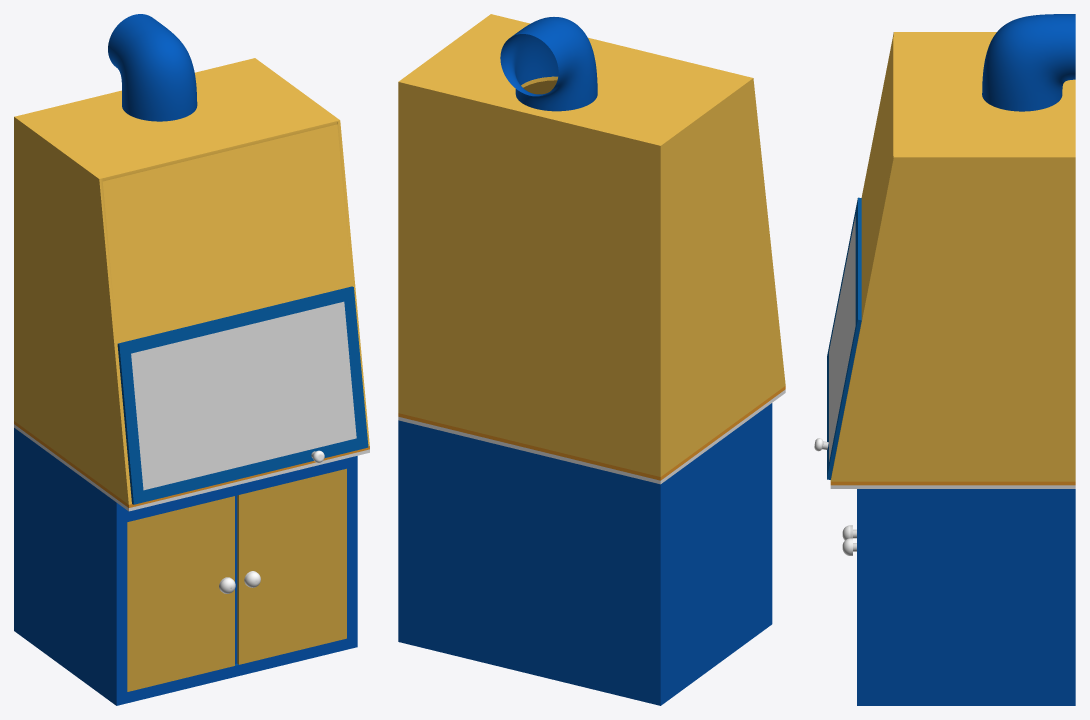
Rendered from marty.gltf.
3 views of the same model, side by side, from view 1: azimuth 30°, elevation 25°; view 2: azimuth 150°, elevation 25°; view 3: azimuth 270°, elevation 25° (orthographic). The views are drawn at different scales.
Parts seen in each view (by area): view 1: Object_1106.001, ouvrir0, Object_1102.001, Object_1115.001, ouvrir1, ouvrir2, Object_1136.001, Object_1123.001, Object_1107.001, Object_1113.001, Object_1110.001; view 2: Object_1106.001, Object_1115.001, Object_1136.001, Object_1123.001, Object_1113.001, Object_1110.001, Object_1107.001; view 3: Object_1106.001, Object_1115.001, Object_1136.001, ouvrir0, Object_1102.001, Object_1113.001, Object_1123.001, Object_1110.001, Object_1107.001.
Boxes of the visible parts, bbox=[...] form: Object_1106.001: bbox=[14, 58, 369, 504]; ouvrir0: bbox=[117, 286, 368, 504]; Object_1102.001: bbox=[103, 124, 351, 340]; Object_1115.001: bbox=[14, 439, 357, 694]; ouvrir1: bbox=[237, 468, 346, 664]; ouvrir2: bbox=[127, 496, 235, 691]; Object_1136.001: bbox=[108, 14, 197, 121]; Object_1123.001: bbox=[14, 620, 357, 705]; Object_1107.001: bbox=[14, 424, 369, 511]; Object_1113.001: bbox=[14, 428, 127, 513]; Object_1110.001: bbox=[14, 421, 369, 507]; Object_1106.001: bbox=[398, 14, 785, 476]; Object_1115.001: bbox=[398, 415, 772, 693]; Object_1136.001: bbox=[500, 17, 597, 111]; Object_1123.001: bbox=[398, 612, 772, 705]; Object_1113.001: bbox=[398, 403, 772, 496]; Object_1110.001: bbox=[398, 386, 785, 480]; Object_1107.001: bbox=[398, 389, 785, 484]; Object_1106.001: bbox=[830, 32, 1075, 481]; Object_1115.001: bbox=[857, 501, 1075, 693]; Object_1136.001: bbox=[982, 14, 1075, 111]; ouvrir0: bbox=[814, 197, 861, 479]; Object_1102.001: bbox=[862, 37, 893, 316]; Object_1113.001: bbox=[857, 489, 1075, 500]; Object_1123.001: bbox=[857, 694, 1075, 705]; Object_1110.001: bbox=[830, 481, 1075, 485]; Object_1107.001: bbox=[830, 485, 1075, 488].
Size of the model in its own units: 1.13 by 2.62 by 0.9919.
